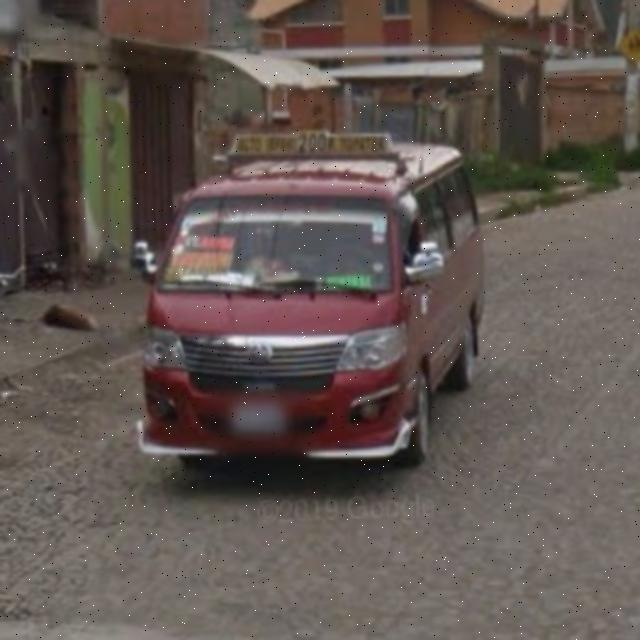cars: (123, 152, 494, 489)
